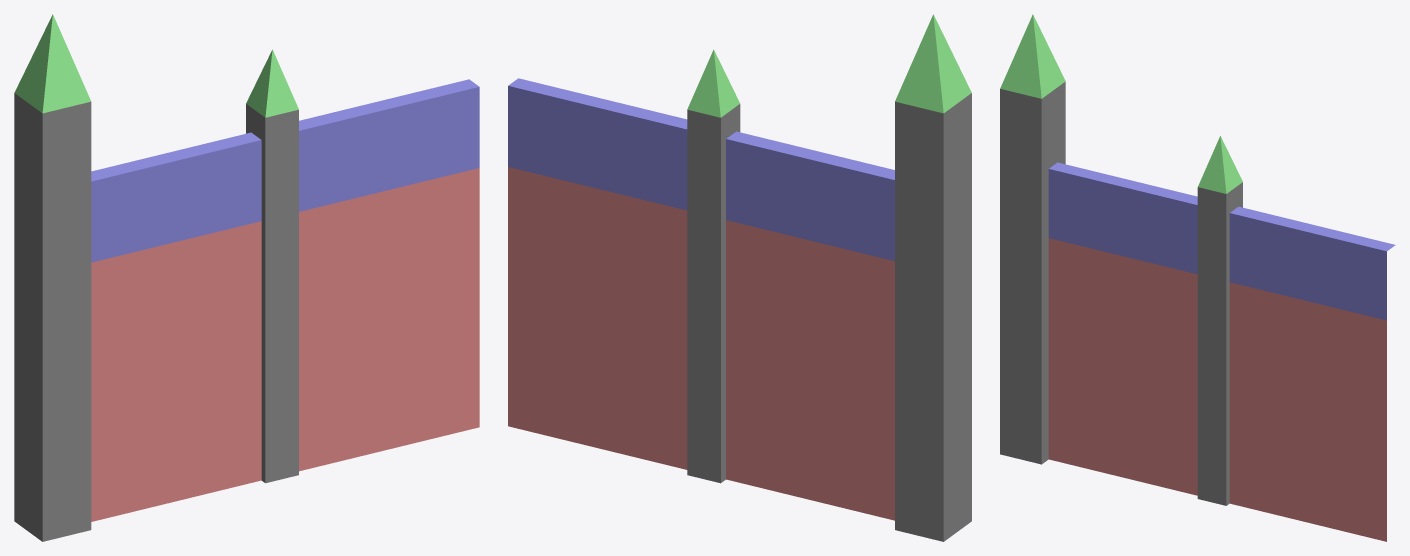
Rendered from Old_War_s__barricade03.gltf.
3 views of the same model, side by side, from view 1: azimuth 30°, elevation 25°; view 2: azimuth 150°, elevation 25°; view 3: azimuth 330°, elevation 25° (orthographic). The views are drawn at different scales.
Visible parts, largest first — view 1: barricade03; view 2: barricade03; view 3: barricade03.
Part boxes in pixels (x1=…): barricade03: x1=14, y1=14, x2=479, y2=541; barricade03: x1=508, y1=14, x2=971, y2=541; barricade03: x1=1000, y1=14, x2=1395, y2=541.
Size of the model in its own units: 1.83 by 2 by 0.2.
